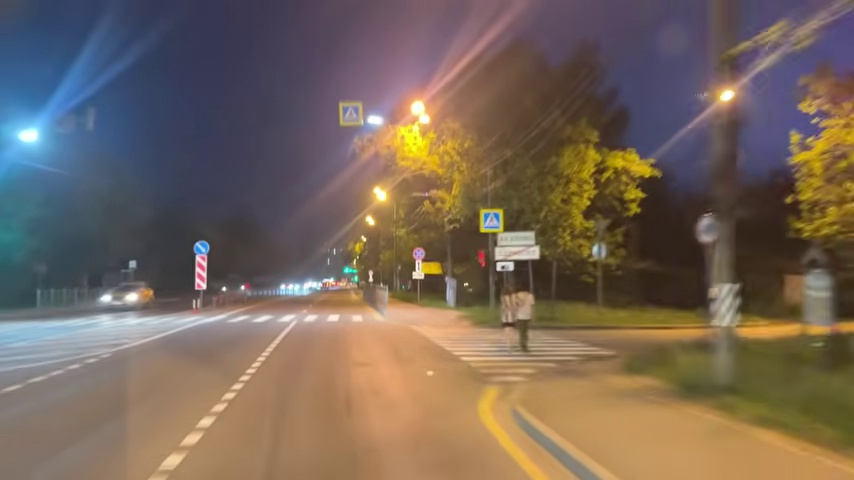acesa: (695, 214, 721, 245), (712, 84, 739, 108), (371, 185, 392, 206), (18, 126, 39, 145), (363, 214, 379, 229)
